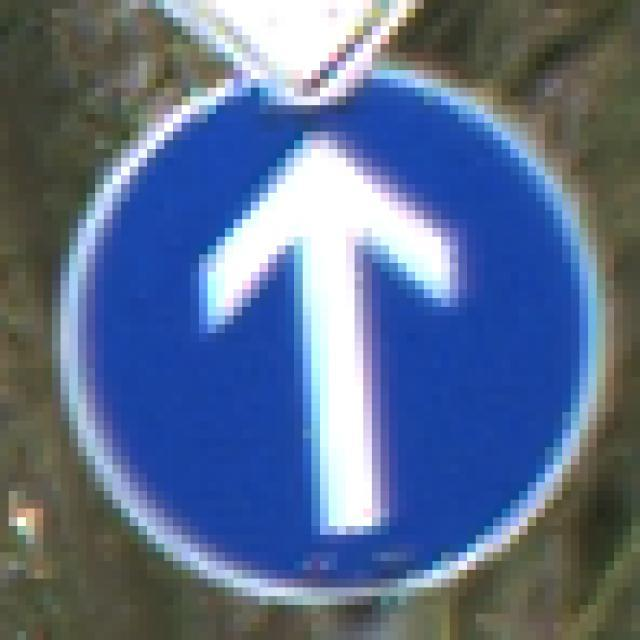compulsary ahead: (59, 67, 597, 605)
